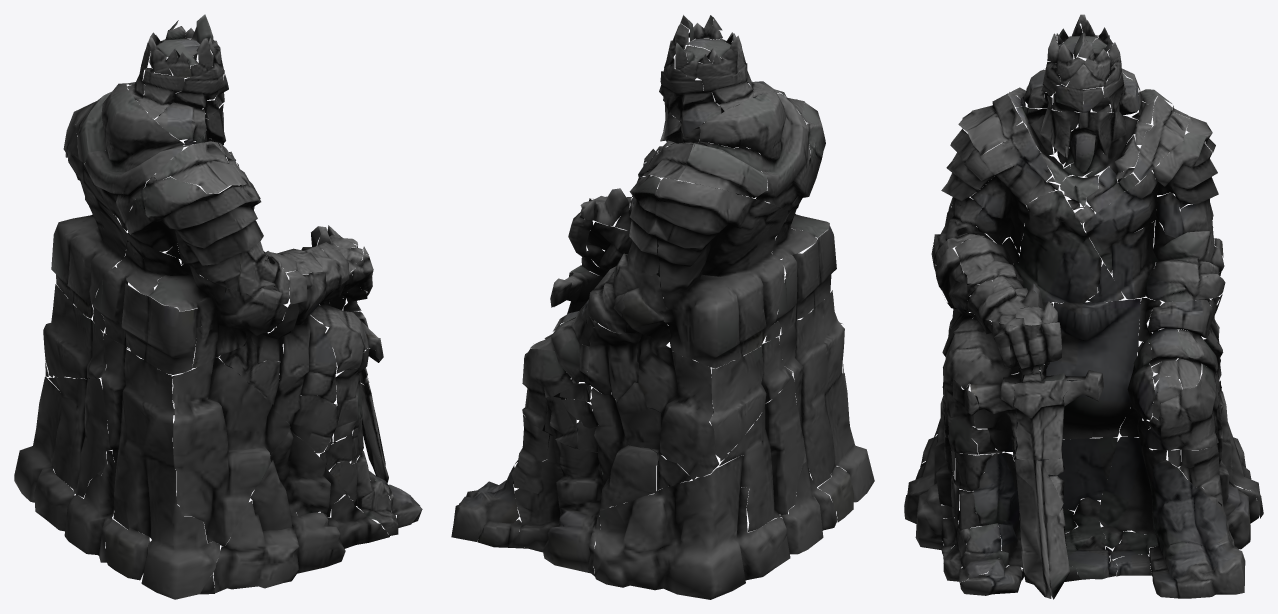
Rendered from warden-rank-render-8k.glb.
3 renders of one model, left to right at view 1: azimuth 30°, elevation 25°; view 2: azimuth 150°, elevation 25°; view 3: azimuth 270°, elevation 25°, orthographic.
Parts seen in each view (by area): view 1: warden-runtime_DIRECT_LOD1; view 2: warden-runtime_DIRECT_LOD1; view 3: warden-runtime_DIRECT_LOD1.
Part boxes in pixels (x1,y1,x2,y2): warden-runtime_DIRECT_LOD1: [14, 14, 422, 599]; warden-runtime_DIRECT_LOD1: [451, 15, 874, 599]; warden-runtime_DIRECT_LOD1: [904, 14, 1263, 599].
Bounding box in the file's own units: 6.16 × 9.99 × 6.65.
Materials: 1 (1 with a texture image).
